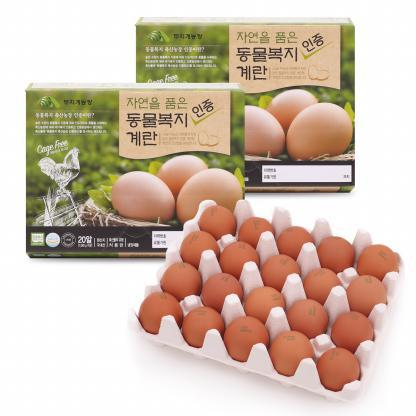egg: (162, 166, 258, 227), (111, 154, 189, 228), (286, 100, 354, 171), (220, 99, 292, 163), (147, 252, 217, 308), (152, 146, 220, 198), (258, 326, 316, 386), (211, 310, 273, 366), (165, 300, 225, 356), (309, 344, 370, 398), (281, 292, 336, 348), (222, 211, 286, 256), (197, 271, 254, 321), (258, 79, 316, 128), (280, 262, 344, 302), (333, 307, 381, 358), (266, 217, 322, 259), (240, 287, 297, 328), (252, 250, 312, 288), (192, 199, 242, 243), (136, 292, 186, 336), (306, 228, 356, 271), (347, 240, 403, 275), (349, 268, 396, 308), (176, 228, 217, 268), (218, 243, 262, 278)
